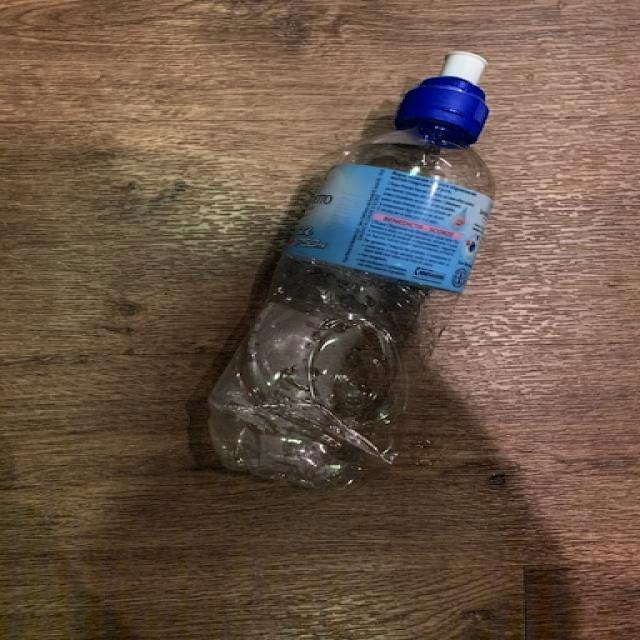bottle: (208, 52, 495, 493)
